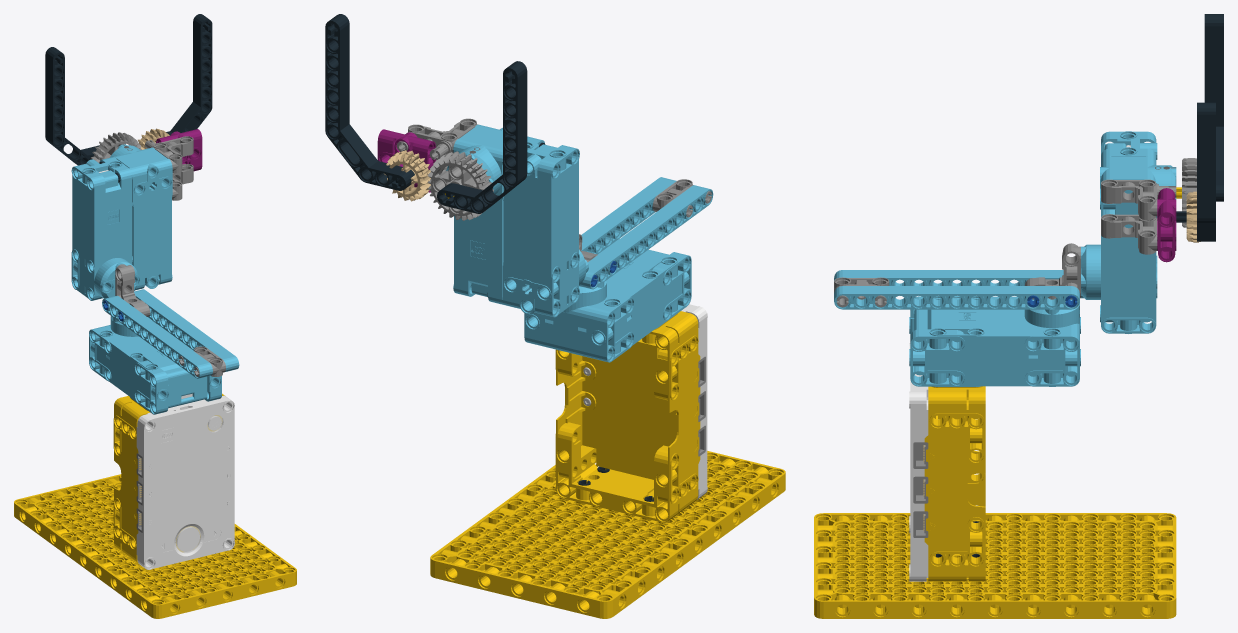
Rendered from arm.glb.
3 views of the same model, side by side, from view 1: azimuth 30°, elevation 25°; view 2: azimuth 150°, elevation 25°; view 3: azimuth 270°, elevation 25° (orthographic). The views are drawn at different scales.
Visible parts, largest first — view 1: arm; view 2: arm; view 3: arm.
Part boxes in pixels (bbox=[...]): arm: bbox=[14, 14, 296, 618]; arm: bbox=[325, 14, 785, 618]; arm: bbox=[814, 14, 1223, 618].
Bounding box in the file's own units: 0.1276 × 0.2556 × 0.172.
